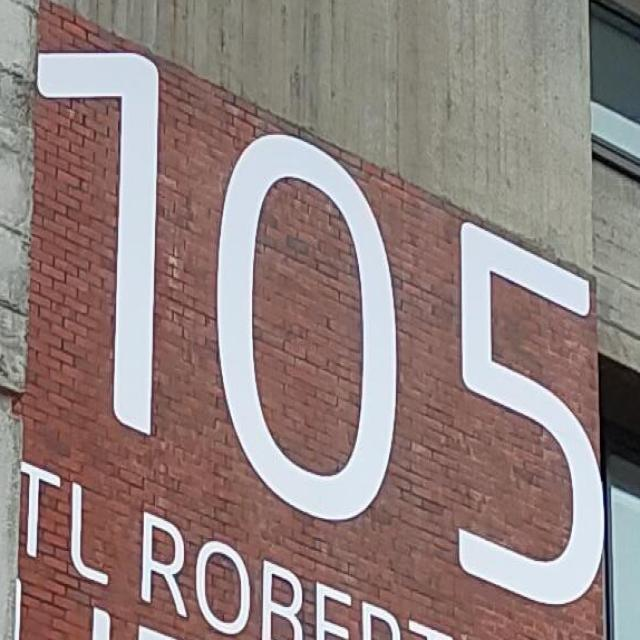character: (210, 124, 406, 524), (454, 211, 605, 615), (33, 42, 168, 451)
